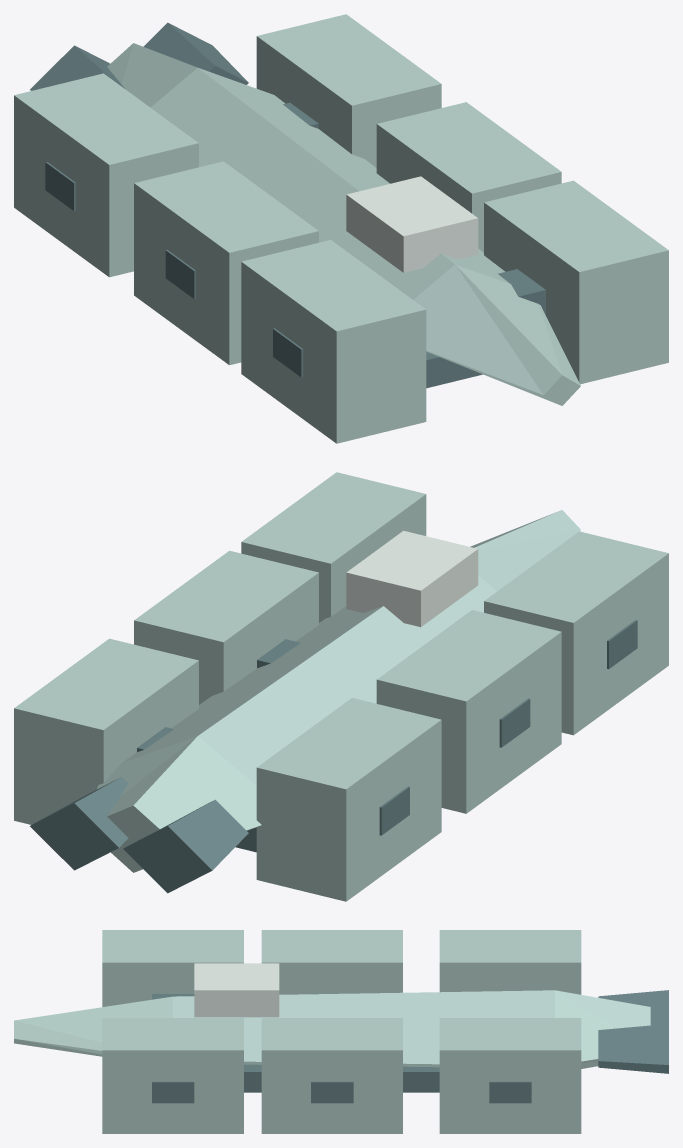
3 renders of one model, top to bottom at view 1: azimuth 30°, elevation 25°; view 2: azimuth 150°, elevation 25°; view 3: azimuth 270°, elevation 25°, orthographic. The views are drawn at different scales.
Bounding box in the file's own units: 4.36 × 1.62 × 9.91.
